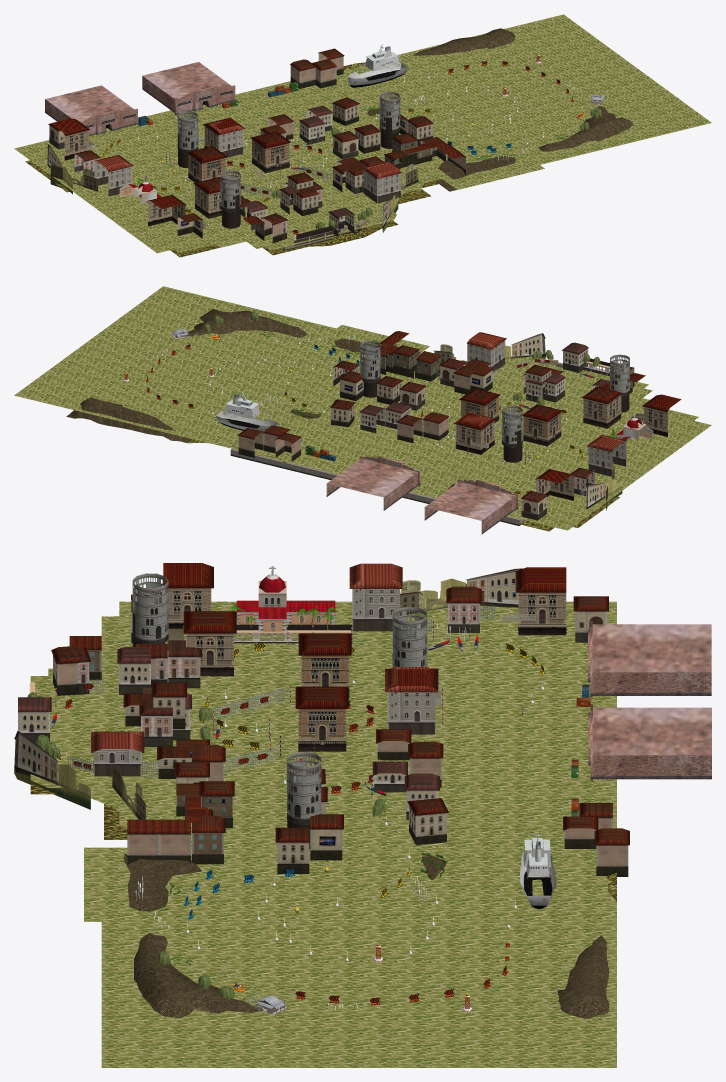
Rendered from Venice.glb.
The picture shows the model from 3 angles, top to bottom: view 1: azimuth 30°, elevation 25°; view 2: azimuth 150°, elevation 25°; view 3: azimuth 270°, elevation 25°; orthographic projection. The views are drawn at different scales.
Visible parts, largest first — view 1: Untitled* (×7), Untitled** (×2), toit1 (×16), hangar1.3dm 1 (×2), Untitled, 4faceB.3dm 1 (×3), Vmes, 4faceS.3dm 1 (×4), tour.3dm 3* (×3), maisons-NO*, hull back*, 256*128.3dm 1 (+4 smaller); view 2: Untitled* (×7), Untitled** (×2), toit1 (×19), hangar1.3dm 1 (×2), Untitled, 4faceB.3dm 1 (×3), Vmes, 4faceS.3dm 1 (×6), tour.3dm 3* (×3), 256*128.3dm 1 (×2), hull back*, flue** (+2 smaller); view 3: Untitled* (×7), Untitled** (×2), toit1 (×23), hangar1.3dm 1 (×2), Untitled, 4faceB.3dm 1 (×3), Vmes, tour.3dm 3* (×3), 256*128.3dm 1 (×4), 4faceS.3dm 1 (×4), toit (×3), eglisenull1.3dm 7* (+3 smaller).
Boxes of the visible parts, x1=… form: Untitled* (×7): x1=14, y1=63, x2=711, y2=253; Untitled** (×2): x1=398, y1=14, x2=685, y2=145; toit1 (×16): x1=51, y1=59, x2=433, y2=243; hangar1.3dm 1 (×2): x1=45, y1=62, x2=235, y2=135; Untitled: x1=378, y1=109, x2=544, y2=189; 4faceB.3dm 1 (×3): x1=186, y1=131, x2=291, y2=218; Vmes: x1=413, y1=28, x2=633, y2=151; 4faceS.3dm 1 (×4): x1=332, y1=97, x2=418, y2=162; tour.3dm 3* (×3): x1=177, y1=91, x2=400, y2=212; maisons-NO*: x1=435, y1=156, x2=515, y2=191; hull back*: x1=347, y1=62, x2=407, y2=87; 256*128.3dm 1: x1=50, y1=164, x2=98, y2=191; Untitled* (×7): x1=138, y1=286, x2=711, y2=530; Untitled** (×2): x1=14, y1=305, x2=310, y2=437; toit1 (×19): x1=237, y1=332, x2=681, y2=500; hangar1.3dm 1 (×2): x1=326, y1=456, x2=518, y2=534; Untitled: x1=260, y1=325, x2=429, y2=402; 4faceB.3dm 1 (×3): x1=459, y1=386, x2=622, y2=446; Vmes: x1=66, y1=309, x2=306, y2=442; 4faceS.3dm 1 (×6): x1=330, y1=345, x2=547, y2=520; tour.3dm 3* (×3): x1=360, y1=340, x2=629, y2=447; 256*128.3dm 1 (×2): x1=505, y1=333, x2=622, y2=509; hull back*: x1=216, y1=410, x2=278, y2=434; flue**: x1=224, y1=392, x2=259, y2=418; Untitled* (×7): x1=30, y1=601, x2=616, y2=1067; Untitled** (×2): x1=190, y1=922, x2=616, y2=1067; toit1 (×23): x1=18, y1=563, x2=629, y2=876; hangar1.3dm 1 (×2): x1=588, y1=621, x2=711, y2=780; Untitled: x1=84, y1=847, x2=368, y2=921; 4faceB.3dm 1 (×3): x1=183, y1=611, x2=351, y2=751; Vmes: x1=134, y1=933, x2=609, y2=1018; tour.3dm 3* (×3): x1=132, y1=573, x2=427, y2=824; 256*128.3dm 1 (×4): x1=14, y1=568, x2=522, y2=819; 4faceS.3dm 1 (×4): x1=151, y1=596, x2=608, y2=844; toit (×3): x1=69, y1=636, x2=190, y2=864; eglisenull1.3dm 7*: x1=236, y1=574, x2=335, y2=634.
Size of the model in its own units: 320 by 35.4 by 202.
57 materials, 56 textured.
